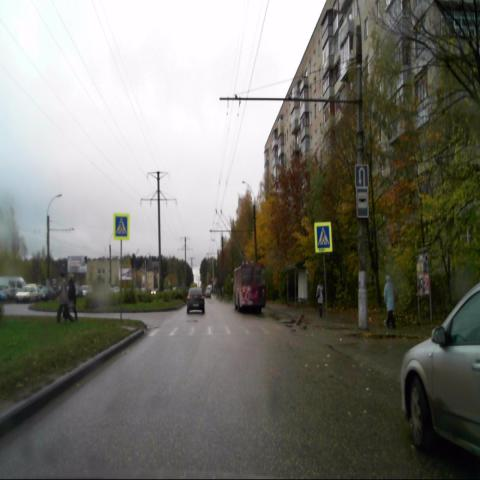6_3_1: (355, 163, 368, 188)
